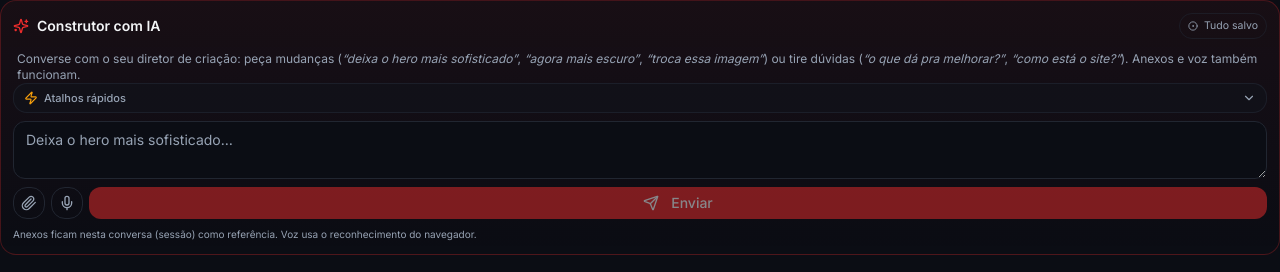
Gravador de voz do chat — só transcreve ao PARAR e UMA vez (silêncio não finaliza) › 9) SEGUNDA gravação funciona (regressão: funcionou 1x e parou) e sessão antiga não interfere
Click the button titled "Gravar com voz" at (67, 203), box [51,187,83,219]
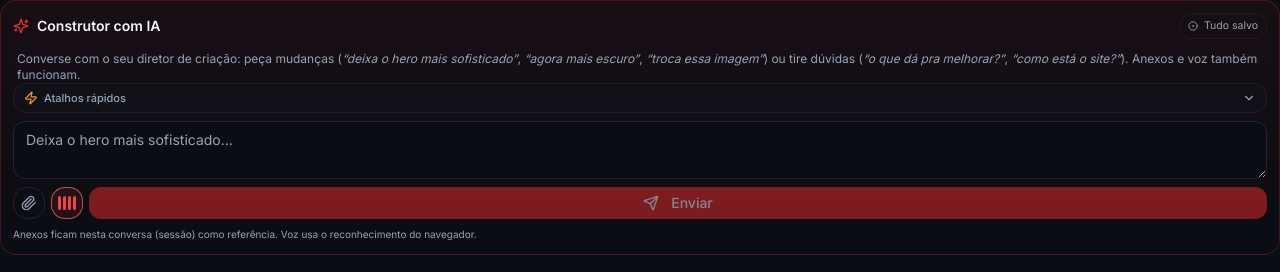
Click the button titled "Parar gravação" at (67, 203), box [51,187,83,219]
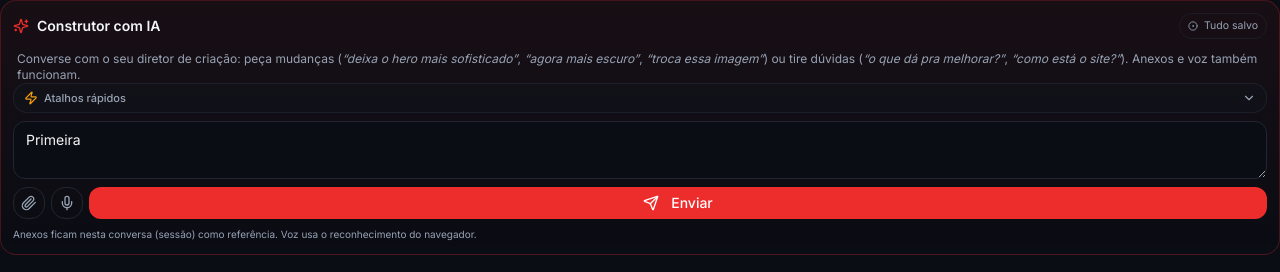
Expected: the text box with placeholder "Deixa o hero mais sofisticado…" holds "Primeira", [13,121,1267,179]
Note: Segunda gravação precisa funcionar normalmente.
Click the button titled "Gravar com voz" at (67, 203), box [51,187,83,219]
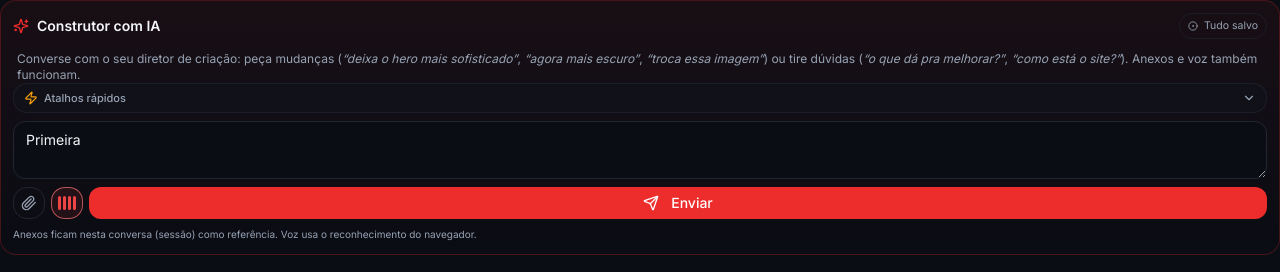
Click the button titled "Parar gravação" at (67, 203), box [51,187,83,219]
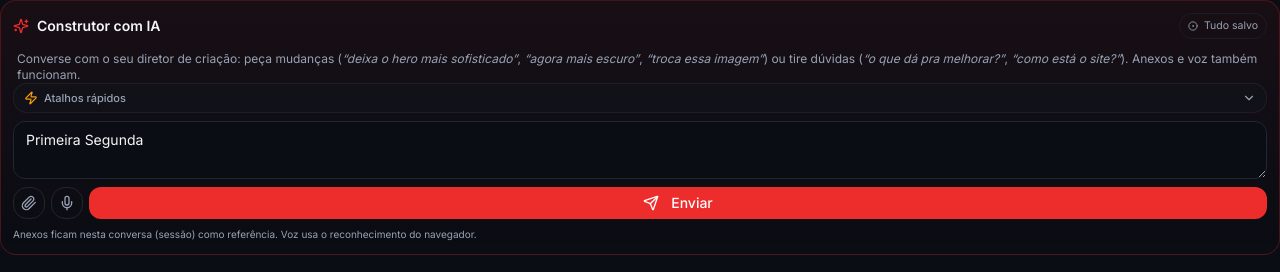
Expected: the text box with placeholder "Deixa o hero mais sofisticado…" holds "Primeira Segunda", [13,121,1267,179]
